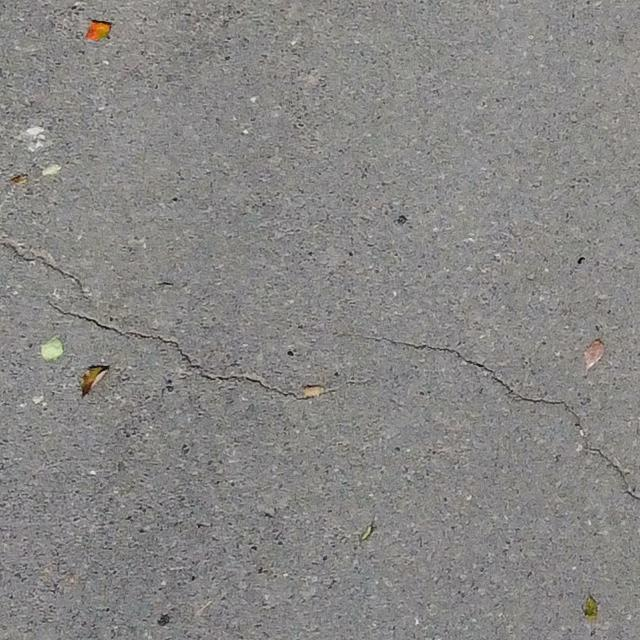TransverseCrack: (360, 333, 640, 498), (43, 300, 340, 398), (2, 236, 86, 297)
